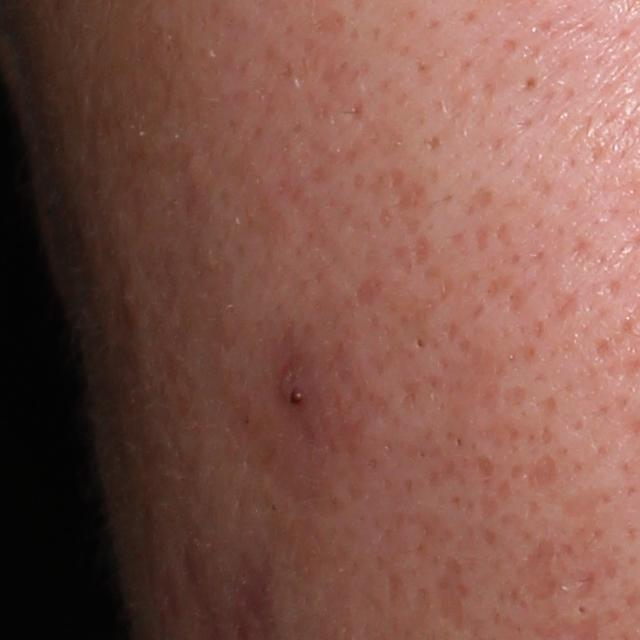atrophic_scar: (435, 560, 469, 632), (557, 565, 605, 603), (525, 450, 561, 497), (354, 273, 384, 311)
comedo: (519, 78, 539, 92)
